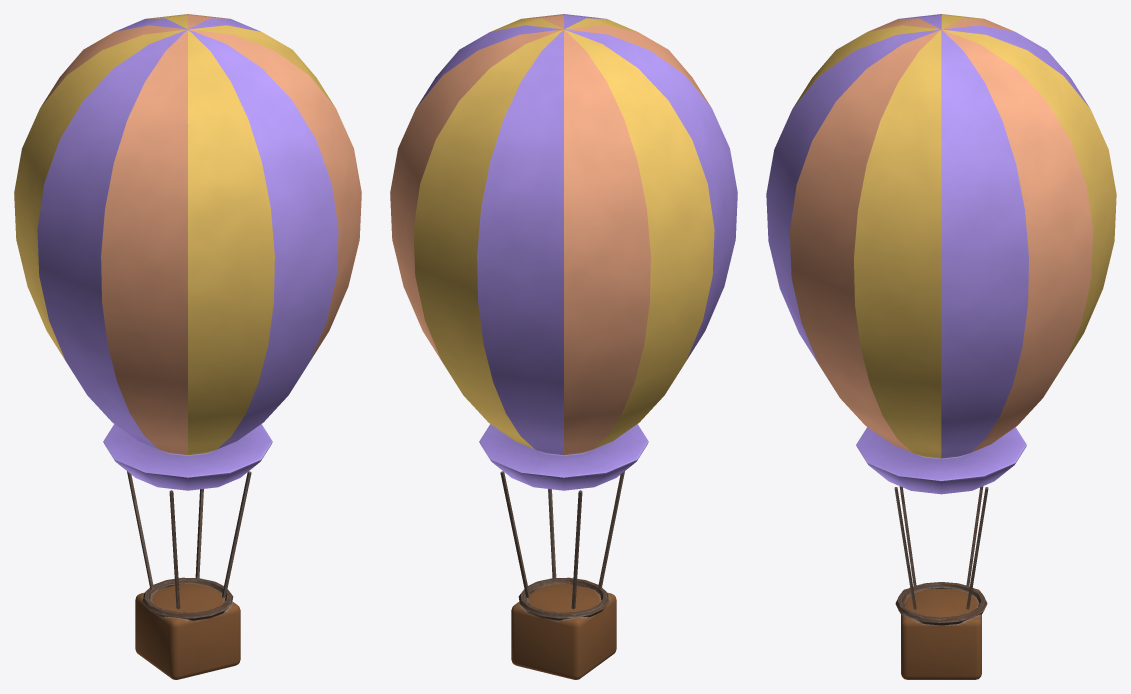
The model's file is rr_balloon_b.glb.
3 renders of one model, left to right at view 1: azimuth 30°, elevation 25°; view 2: azimuth 150°, elevation 25°; view 3: azimuth 270°, elevation 25°, orthographic.
Visible parts, largest first — view 1: rr_balloon_b; view 2: rr_balloon_b; view 3: rr_balloon_b.
Boxes of the visible parts, x1=… form: rr_balloon_b: x1=14, y1=14, x2=361, y2=679; rr_balloon_b: x1=390, y1=14, x2=737, y2=679; rr_balloon_b: x1=766, y1=14, x2=1116, y2=679.
Bounding box in the file's own units: 5.17 × 10.35 × 5.17.
Materials: 5 (5 with a texture image).
